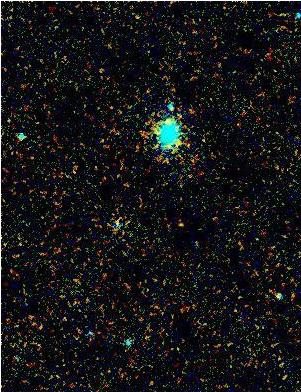star: (169, 206, 199, 236)
